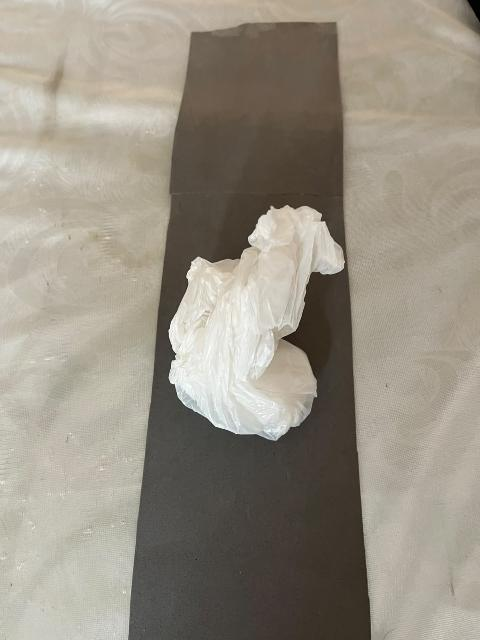LDPE: (150, 192, 364, 468)
